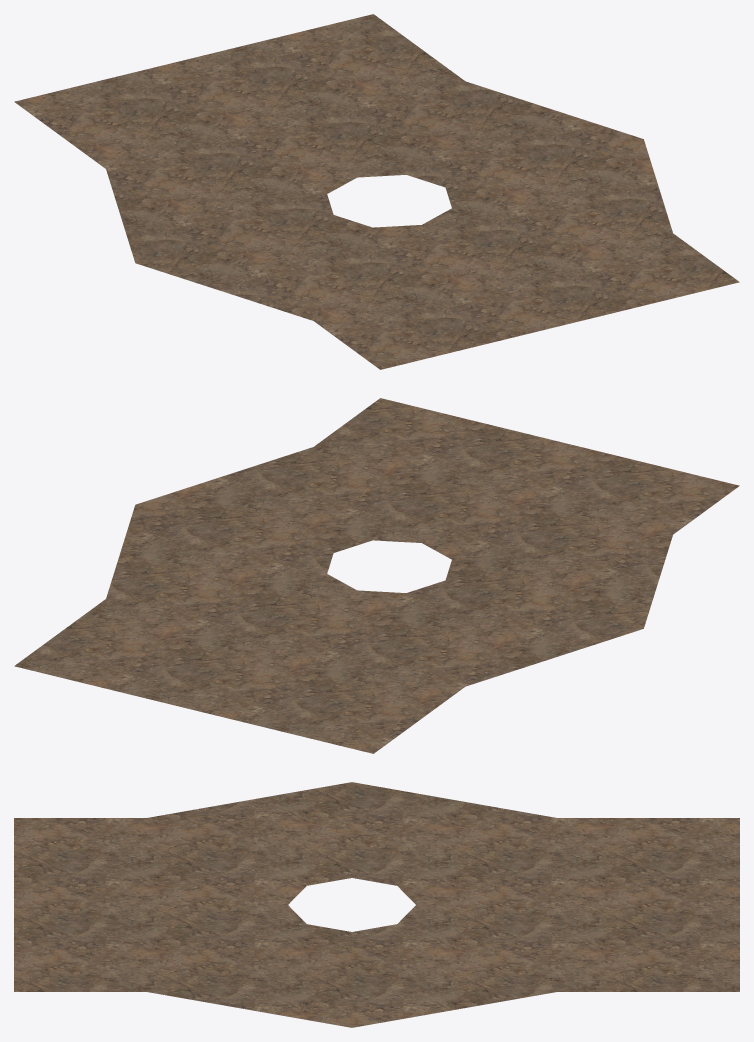
The model's file is Ground03_Build_LostTemple_005.FBX.
The picture shows the model from 3 angles, top to bottom: view 1: azimuth 30°, elevation 25°; view 2: azimuth 150°, elevation 25°; view 3: azimuth 270°, elevation 25°; orthographic projection.
Parts seen in each view (by area): view 1: Ground03_Build_LostTemple_005; view 2: Ground03_Build_LostTemple_005; view 3: Ground03_Build_LostTemple_005.
Boxes of the visible parts, x1,y1,x2,y2 form: Ground03_Build_LostTemple_005: (14, 14, 739, 369); Ground03_Build_LostTemple_005: (14, 398, 739, 753); Ground03_Build_LostTemple_005: (14, 782, 739, 1027).
Size of the model in its own units: 2112 by 26.06 by 2636.
